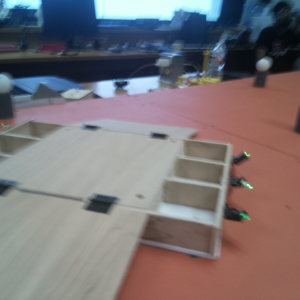obstacle: (1, 73, 17, 119), (252, 59, 270, 90)
side: (151, 142, 261, 260)
slope: (1, 180, 142, 300), (79, 114, 189, 138)
